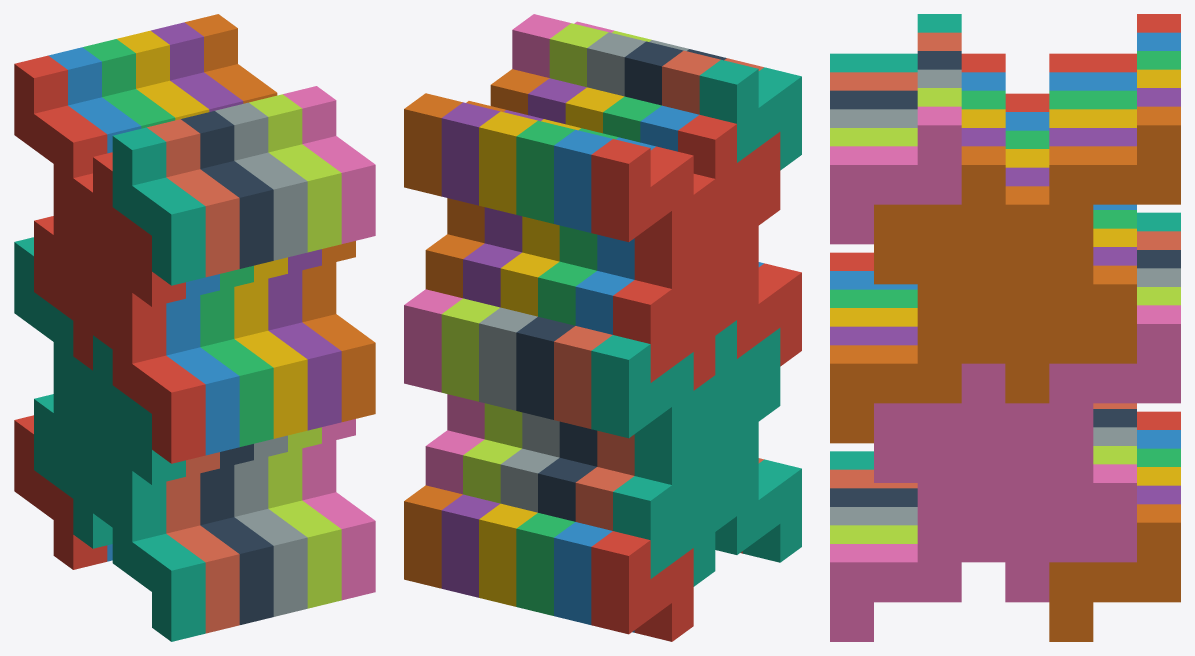
Rendered from tiling.obj.
3 views of the same model, side by side, from view 1: azimuth 30°, elevation 25°; view 2: azimuth 150°, elevation 25°; view 3: azimuth 270°, elevation 25° (orthographic). The views are drawn at different scales.
Visible parts, largest first — view 1: copy_79, copy_73, copy_67, copy_13, copy_82, copy_81, copy_83, copy_84, copy_80, copy_69, copy_70, copy_74 (+42 smaller); view 2: copy_13, copy_7, copy_1, copy_79, copy_25, copy_19, copy_67, copy_61, copy_31, copy_37, copy_73, copy_49 (+47 smaller); view 3: copy_18, copy_84, copy_72, copy_78, copy_54, copy_66, copy_12, copy_24, copy_6, copy_30, copy_60, copy_42 (+48 smaller).
Part boxes in pixels (box(x1,y1,x2,y2)): copy_79: box(112, 127, 205, 285); copy_73: box(112, 314, 205, 463); copy_67: box(112, 492, 205, 641); copy_13: box(14, 55, 107, 213); copy_82: box(215, 102, 307, 260); copy_81: box(181, 111, 273, 268); copy_83: box(249, 94, 341, 252); copy_84: box(283, 86, 375, 243); copy_80: box(147, 119, 239, 277); copy_69: box(200, 481, 273, 624); copy_70: box(234, 473, 307, 616); copy_74: box(166, 311, 239, 455); copy_13: box(591, 139, 693, 249); copy_7: box(591, 335, 693, 445); copy_1: box(591, 531, 693, 641); copy_79: box(699, 59, 801, 170); copy_25: box(613, 280, 715, 390); copy_19: box(613, 476, 715, 586); copy_67: box(715, 459, 801, 562); copy_61: box(678, 114, 780, 225); copy_31: box(634, 430, 736, 531); copy_37: box(634, 234, 736, 335); copy_73: box(737, 263, 801, 366); copy_49: box(693, 174, 758, 280); copy_18: box(1049, 106, 1180, 244); copy_84: box(830, 106, 961, 244); copy_72: box(830, 522, 961, 641); copy_78: box(830, 324, 961, 443); copy_54: box(917, 186, 1049, 323); copy_66: box(874, 146, 1005, 284); copy_12: box(1049, 305, 1180, 443); copy_24: box(1005, 464, 1136, 602); copy_6: box(1049, 504, 1180, 641); copy_30: box(1005, 265, 1136, 403); copy_60: box(874, 363, 1005, 482); copy_42: box(961, 244, 1093, 363).
Bounding box in the file's own units: 6 × 13 × 8.
